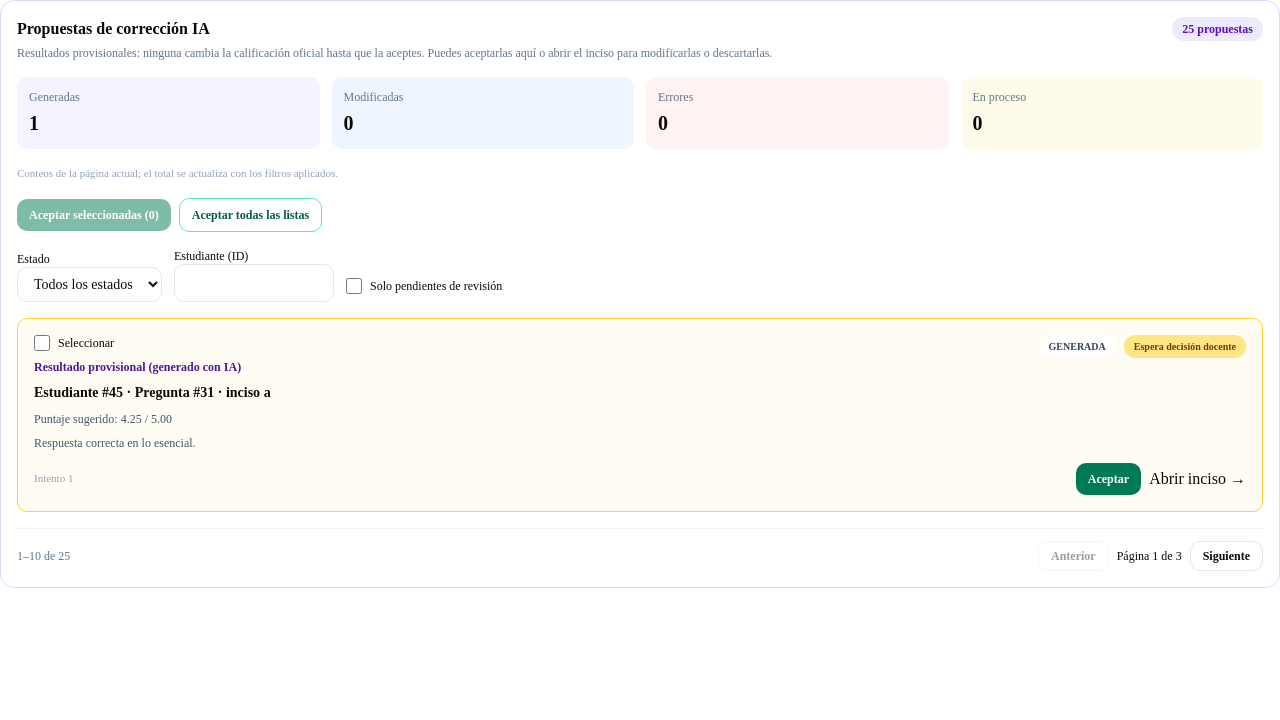
Scenario: BandejaCorreccionesIa › página los resultados usando el desplazamiento del servicio
Expected: the text "Resultado provisional (generado con IA)" is shown, [34,358,271,374]
What coordinates should you click on to do the following:
click the button "Siguiente"
I would click on:
 (1226, 556)
Its box is [1190,540,1263,570].
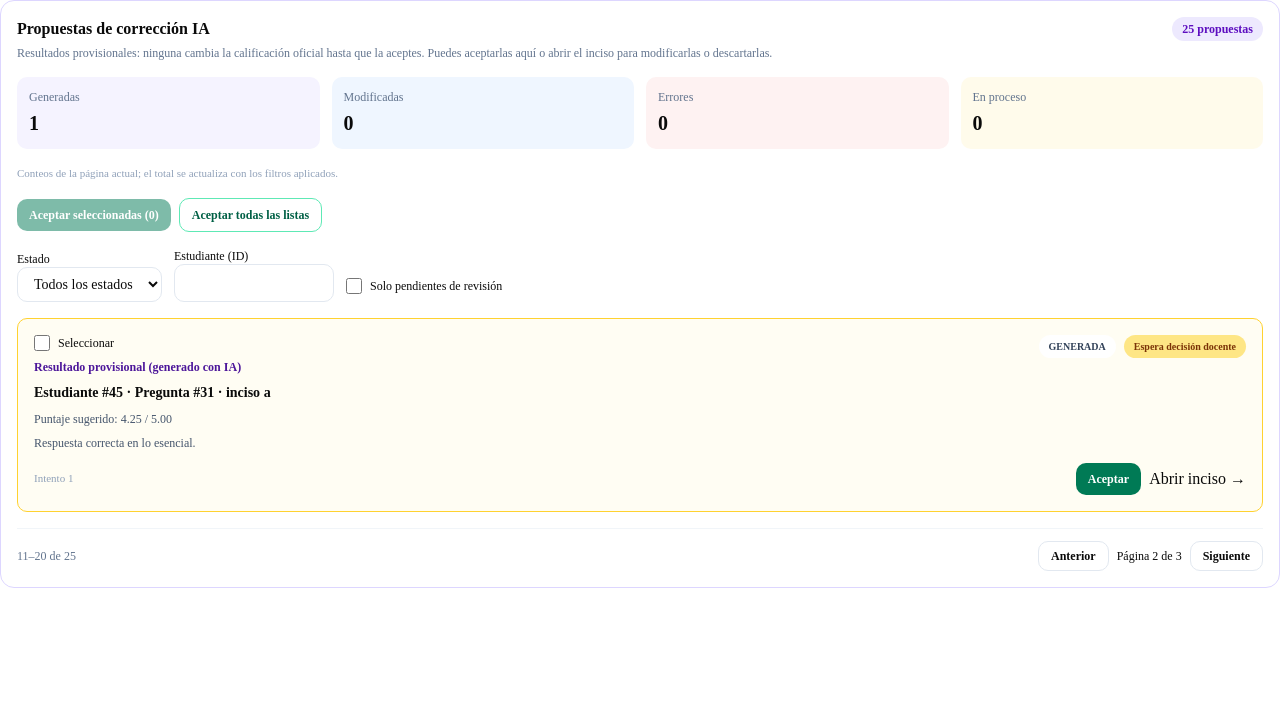
Result: the text "Página 2 de 3" is shown at [1117,548,1182,564]
